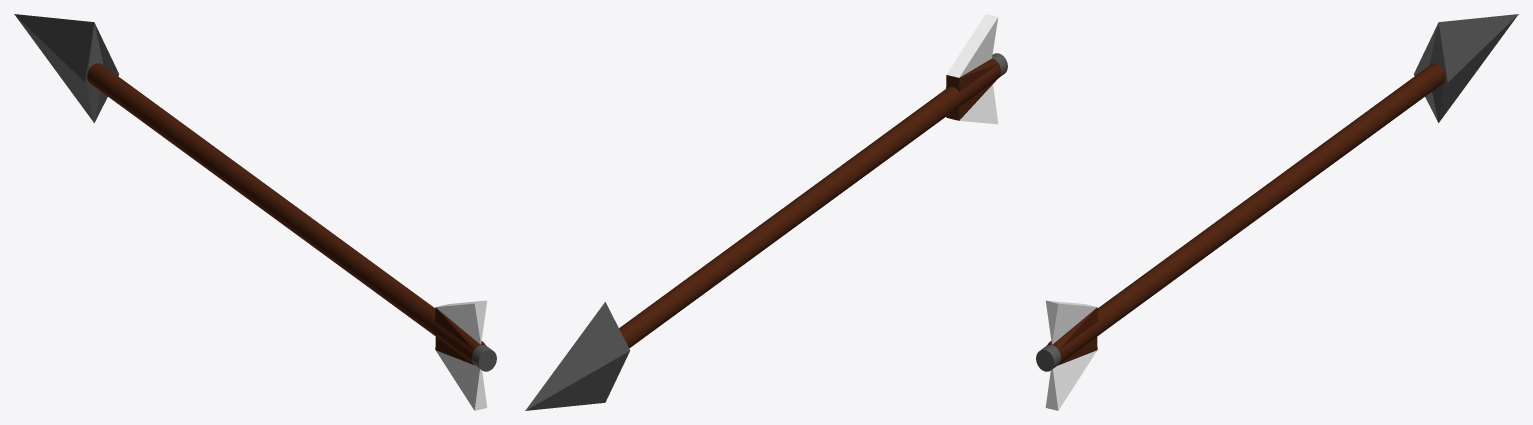
File: arrow.glb
The picture shows the model from 3 angles, left to right: view 1: azimuth 30°, elevation 25°; view 2: azimuth 150°, elevation 25°; view 3: azimuth 330°, elevation 25°; orthographic projection.
Parts seen in each view (by area): view 1: Arrow; view 2: Arrow; view 3: Arrow.
Boxes of the visible parts, bbox=[...] form: Arrow: bbox=[14, 14, 496, 410]; Arrow: bbox=[525, 14, 1007, 410]; Arrow: bbox=[1036, 14, 1518, 410].
Size of the model in its own units: 0.0417 by 0.125 by 1.
